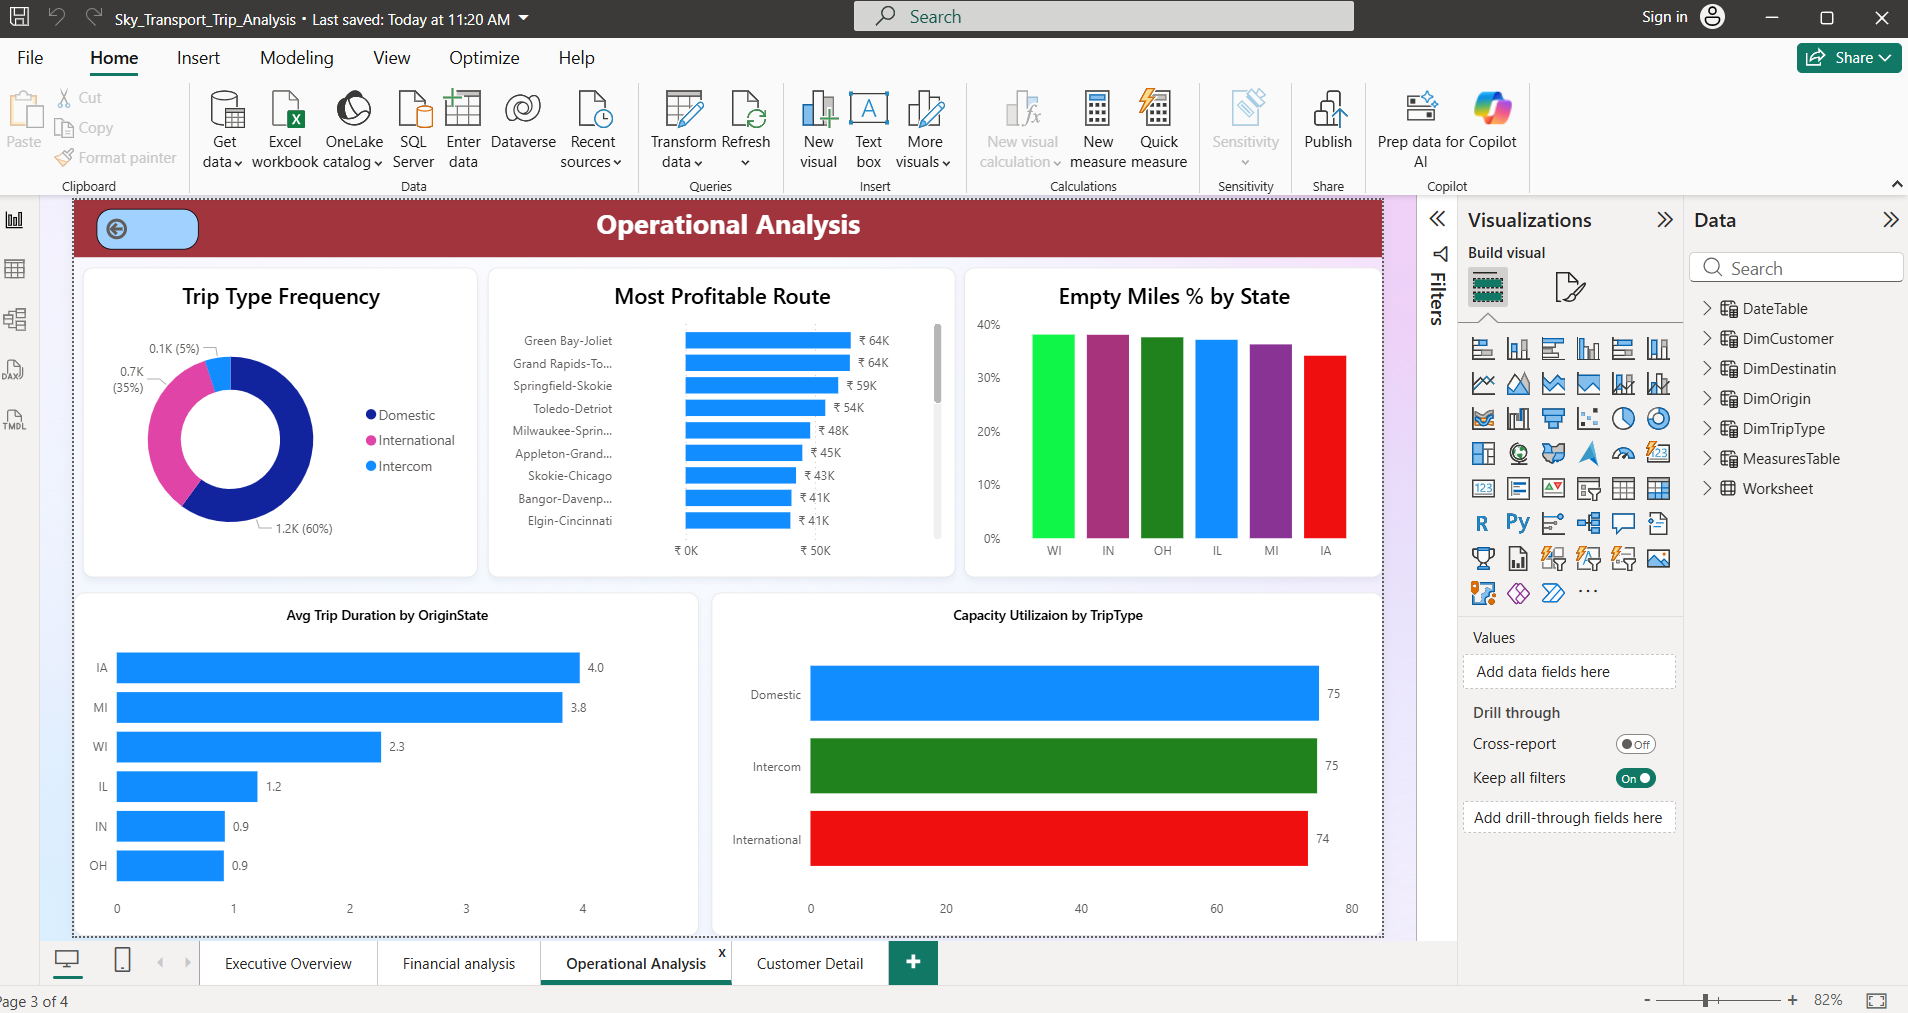

What the dashboard file says about the page in this screenshot:
{"tool":"powerbi","page":{"name":"Operational Analysis","canvas":[1280,720],"ordinal":2},"visuals":[{"type":"barChart","fields":{"Y":["MeasuresTable.Avg Trip Duration"],"Category":["DimOrigin.OriginState"]},"box":[0,384,611.4,336.3],"z":0},{"type":"clusteredColumnChart","title":"Empty Miles % by State","fields":{"Category":["DimOrigin.OriginState"],"Y":["MeasuresTable.Empty Mile %"]},"box":[870.7,66,409.6,303.3],"z":1000},{"type":"barChart","title":"Capacity Utilizaion by TripType","fields":{"Category":["DimTripType.TripType"],"Y":["MeasuresTable.Avg Capacity Utilizaion"]},"box":[623.6,384,656.7,336.3],"z":2000},{"type":"donutChart","title":" Trip Type Frequency","fields":{"Category":["DimTripType.TripType"],"Y":["CountNonNull(Worksheet.TripID)"]},"box":[8.6,66,386.4,303.3],"z":3000},{"type":"textbox","box":[0,0,1280.3,56.3],"z":4000},{"type":"actionButton","box":[22,8.6,100.3,40.4],"z":5000},{"type":"barChart","title":"Most Profitable Route","fields":{"Category":["Worksheet.Route"],"Y":["MeasuresTable.Profit"]},"box":[404.8,66,457.3,303.3],"z":6000}]}

Visuals, with their boxes on the page's 1280x720 design canvas (x1, y1, x2, y2). These are canvas units, not pixel positions in the 1908x1013 screenshot, which may show the page scaled, cropped or inside an application window:
barChart - MeasuresTable.Avg Trip Duration x DimOrigin.OriginState: <bbox>0, 384, 611, 720</bbox>
"Empty Miles % by State" clusteredColumnChart: <bbox>871, 66, 1280, 369</bbox>
"Capacity Utilizaion by TripType" barChart: <bbox>624, 384, 1280, 720</bbox>
" Trip Type Frequency" donutChart: <bbox>9, 66, 395, 369</bbox>
textbox: <bbox>0, 0, 1280, 56</bbox>
actionButton: <bbox>22, 9, 122, 49</bbox>
"Most Profitable Route" barChart: <bbox>405, 66, 862, 369</bbox>
